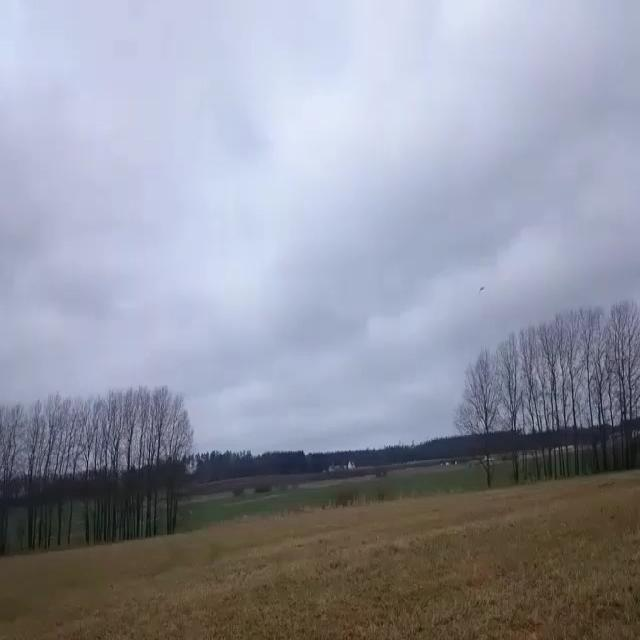drone: (480, 286, 485, 291)
